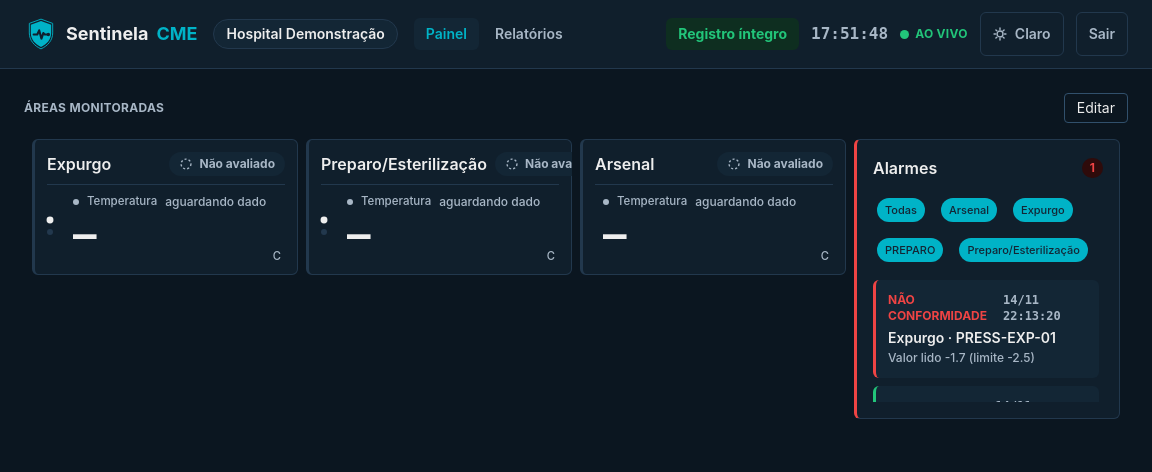
DashboardPage › admin: clicar em Editar monta o DashboardEditor (palette + Salvar/Cancelar) e esconde Editar
This screenshot has width=1152, height=472.
Click the button "Editar". click: click(1096, 108)
box: [1064,93,1128,123]
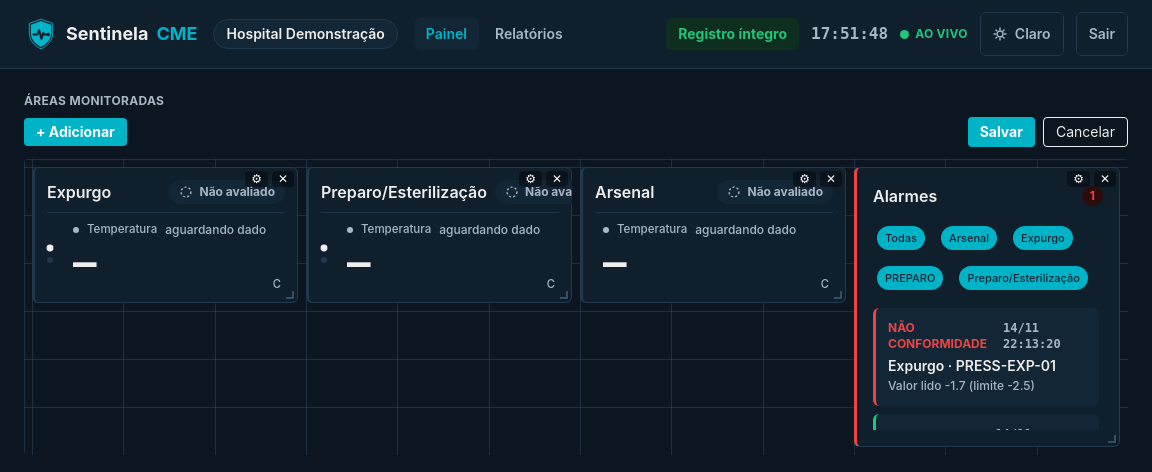
expect the button "+ Adicionar" is shown: met, box [24,118,127,146]
expect the button "Salvar" is shown: met, box [968,117,1035,147]
expect the button "Cancelar" is shown: met, box [1043,117,1128,147]
